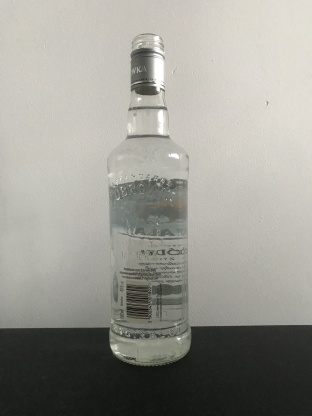nakretka: (128, 32, 167, 96)
